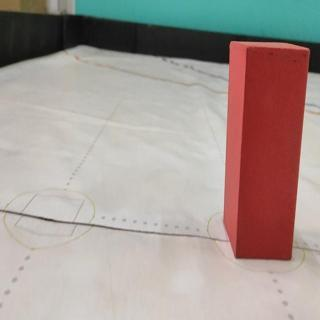redbox: (221, 41, 310, 260)
